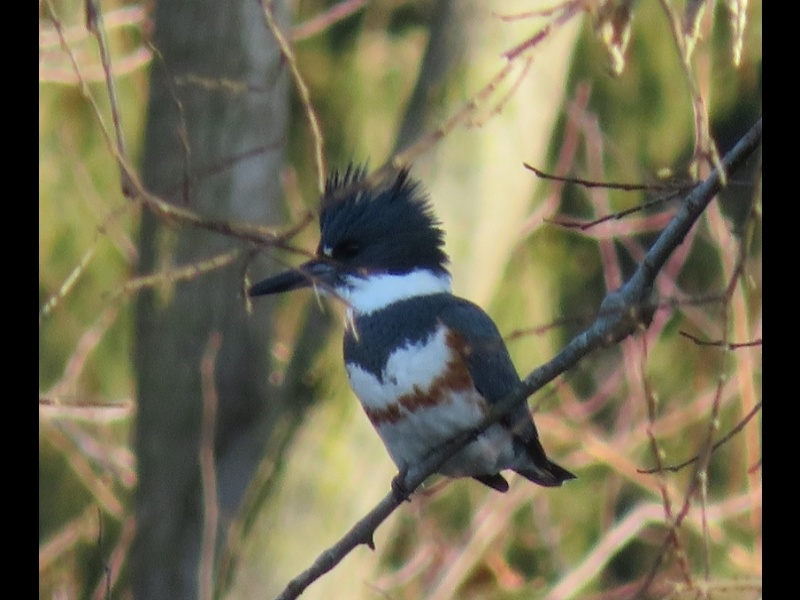kingfisher: (248, 155, 580, 498)
